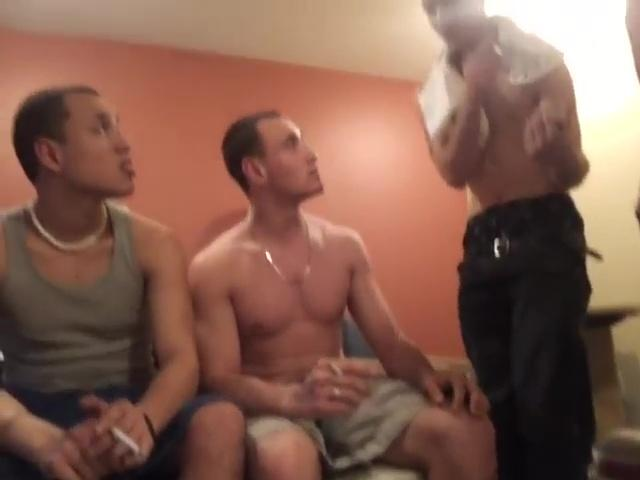cigarette: (110, 424, 144, 456), (327, 362, 343, 381), (494, 38, 506, 60)
